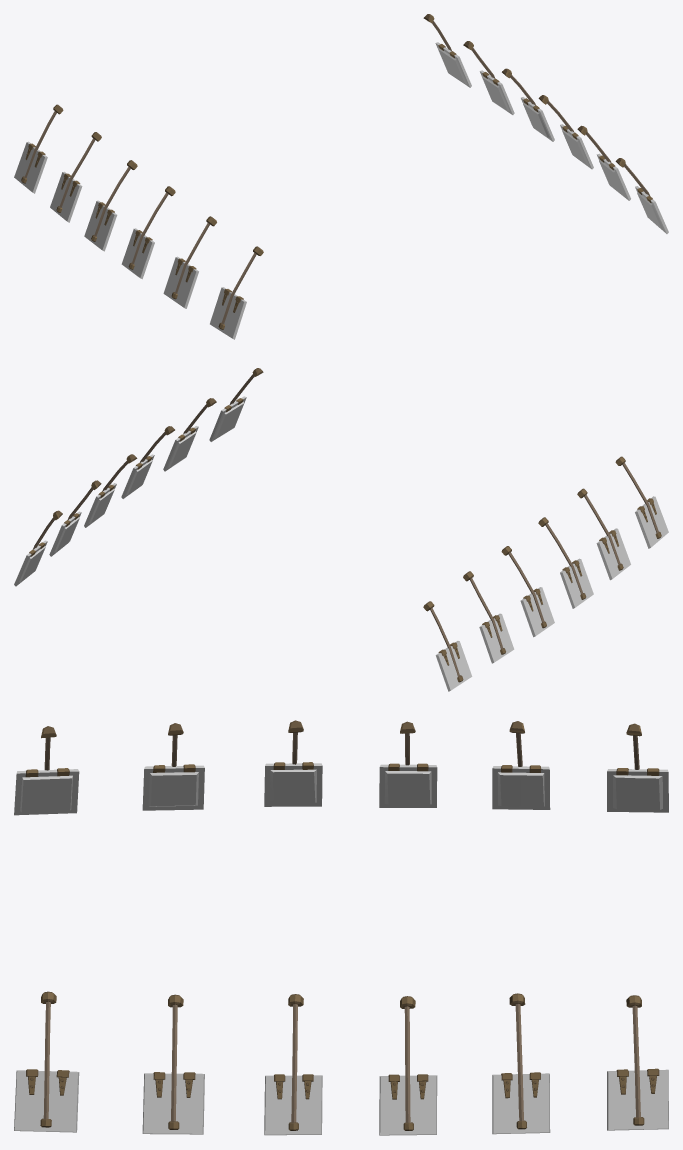
File: SM_Veh_Ship_L_Cannon_Hatch_Closed_02.fbx
3 renders of one model, top to bottom at view 1: azimuth 30°, elevation 25°; view 2: azimuth 150°, elevation 25°; view 3: azimuth 270°, elevation 25°, orthographic. The views are drawn at different scales.
Parts seen in each view (by area): view 1: SM_Veh_Ship_L_Cannon_Hatch_Closed_02; view 2: SM_Veh_Ship_L_Cannon_Hatch_Closed_02; view 3: SM_Veh_Ship_L_Cannon_Hatch_Closed_02.
Boxes of the visible parts, x1,y1,x2,y2 form: SM_Veh_Ship_L_Cannon_Hatch_Closed_02: (14,14,668,339); SM_Veh_Ship_L_Cannon_Hatch_Closed_02: (14,368,668,691); SM_Veh_Ship_L_Cannon_Hatch_Closed_02: (14,720,668,1135).
Bounding box in the file's own units: 1336 × 216 × 1108.
